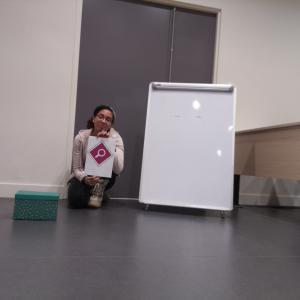search: (88, 142, 112, 163)
